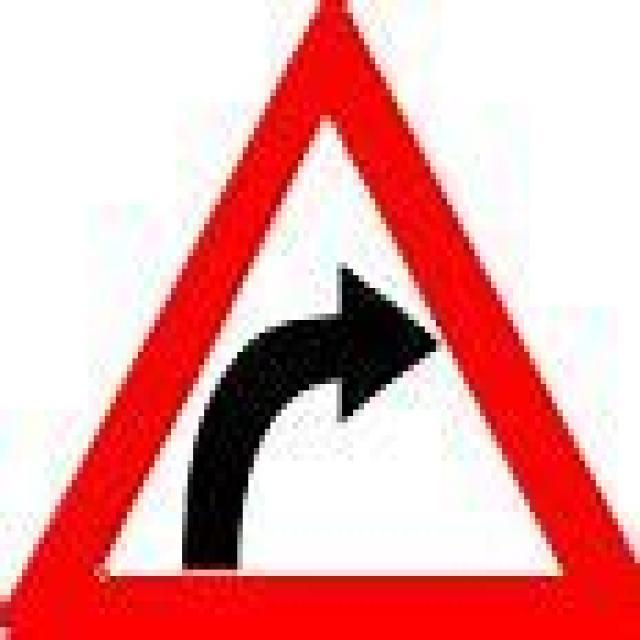right hand curve: (19, 20, 601, 622)
